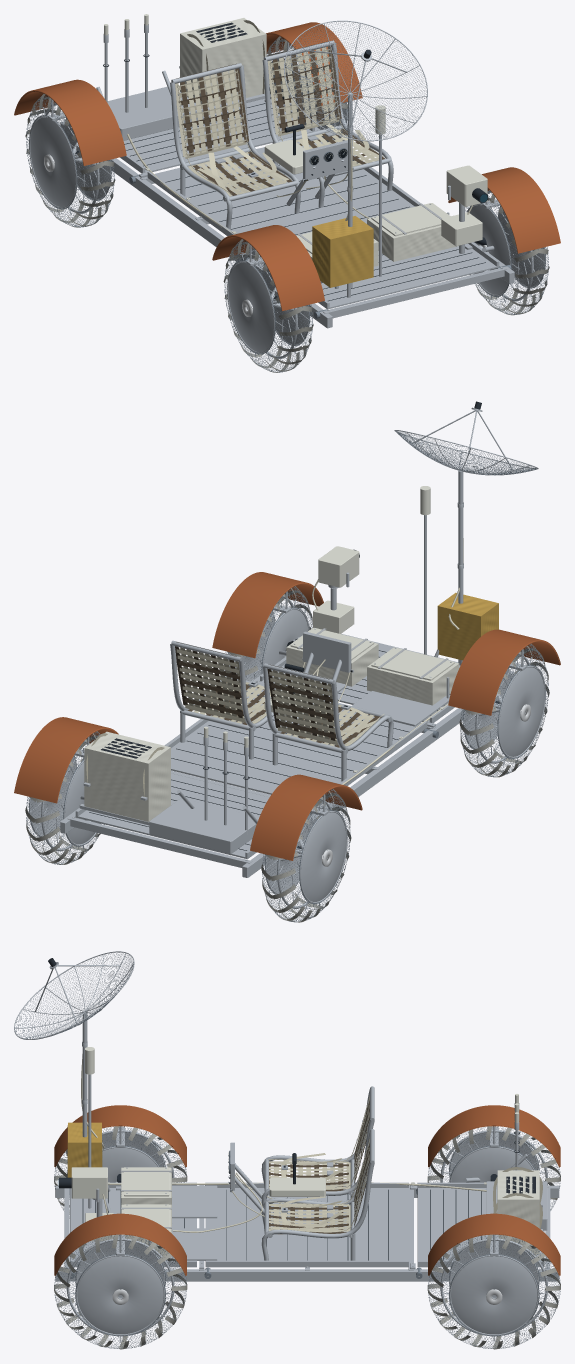
File: lrv-exterior-mobile.glb
3 renders of one model, top to bottom at view 1: azimuth 30°, elevation 25°; view 2: azimuth 150°, elevation 25°; view 3: azimuth 270°, elevation 25°, orthographic. The views are drawn at different scales.
Parts seen in each view (by area): view 1: CHASSIS_Machined_aluminium, FENDER_SHELL_Orange_fibreglass_dust_fender (×4), WOVEN_SEAT_LEFT_Nylon_seat_webbing (×2), SEATS_Machined_aluminium, REAR_EQUIPMENT_White_thermal_coating, HGA_WIRE_REFLECTOR_Steel_fixings, WOVEN_SEAT_RIGHT_Nylon_seat_webbing, LCRU_Multilayer_thermal_foil, BATTERY_COVERS_White_thermal_coating, REAR_EQUIPMENT_Machined_aluminium, WHEEL_-1_-1.15_OUTER_DISK_Machined_aluminium, WHEEL_-1_1.15_OUTER_DISK_Machined_aluminium (+25 smaller); view 2: CHASSIS_Machined_aluminium, FENDER_SHELL_Orange_fibreglass_dust_fender (×4), SEATS_Machined_aluminium, REAR_EQUIPMENT_White_thermal_coating, BATTERY_COVERS_White_thermal_coating, REAR_EQUIPMENT_Machined_aluminium, WOVEN_SEAT_LEFT_Nylon_seat_webbing, WOVEN_SEAT_RIGHT_Nylon_seat_webbing, LCRU_Multilayer_thermal_foil, WHEEL_-1_-1.15_OUTER_DISK_Machined_aluminium, WHEEL_-1_1.15_OUTER_DISK_Machined_aluminium, TV_CAMERA_White_thermal_coating (+19 smaller); view 3: CHASSIS_Machined_aluminium, FENDER_SHELL_Orange_fibreglass_dust_fender (×4), SEATS_Machined_aluminium, WHEEL_1_-1.15_OUTER_DISK_Machined_aluminium, WHEEL_1_1.15_OUTER_DISK_Machined_aluminium, BATTERY_COVERS_White_thermal_coating, HGA_WIRE_REFLECTOR_Steel_fixings, WHEEL_1_1.15_MESH_Steel_fixings, WHEEL_1_-1.15_MESH_Steel_fixings, REAR_EQUIPMENT_White_thermal_coating, WHEEL_1_-1.15_TRACTION_Titanium_traction_bands, WHEEL_1_1.15_TRACTION_Titanium_traction_bands (+29 smaller).
Part boxes in pixels (<box>): CHASSIS_Machined_aluminium: <box>60,97,514,328</box>; FENDER_SHELL_Orange_fibreglass_dust_fender (×4): <box>14,22,560,310</box>; WOVEN_SEAT_LEFT_Nylon_seat_webbing (×2): <box>175,69,288,196</box>; SEATS_Machined_aluminium: <box>170,40,449,235</box>; REAR_EQUIPMENT_White_thermal_coating: <box>104,14,266,104</box>; HGA_WIRE_REFLECTOR_Steel_fixings: <box>285,22,426,140</box>; WOVEN_SEAT_RIGHT_Nylon_seat_webbing: <box>267,47,378,166</box>; LCRU_Multilayer_thermal_foil: <box>312,216,373,287</box>; BATTERY_COVERS_White_thermal_coating: <box>296,203,458,266</box>; REAR_EQUIPMENT_Machined_aluminium: <box>96,33,270,140</box>; WHEEL_-1_-1.15_OUTER_DISK_Machined_aluminium: <box>30,117,75,206</box>; WHEEL_-1_1.15_OUTER_DISK_Machined_aluminium: <box>228,262,273,352</box>; CHASSIS_Machined_aluminium: <box>60,633,514,877</box>; FENDER_SHELL_Orange_fibreglass_dust_fender (×4): <box>14,572,560,860</box>; SEATS_Machined_aluminium: <box>170,639,449,781</box>; REAR_EQUIPMENT_White_thermal_coating: <box>84,726,248,821</box>; BATTERY_COVERS_White_thermal_coating: <box>286,628,459,705</box>; REAR_EQUIPMENT_Machined_aluminium: <box>79,746,259,853</box>; WOVEN_SEAT_LEFT_Nylon_seat_webbing: <box>269,670,378,747</box>; WOVEN_SEAT_RIGHT_Nylon_seat_webbing: <box>176,647,270,725</box>; LCRU_Multilayer_thermal_foil: <box>437,592,498,660</box>; WHEEL_-1_-1.15_OUTER_DISK_Machined_aluminium: <box>301,812,346,901</box>; WHEEL_-1_1.15_OUTER_DISK_Machined_aluminium: <box>499,667,544,756</box>; TV_CAMERA_White_thermal_coating: <box>313,546,359,633</box>; CHASSIS_Machined_aluminium: <box>55,1182,559,1281</box>; FENDER_SHELL_Orange_fibreglass_dust_fender (×4): <box>54,1105,560,1275</box>; SEATS_Machined_aluminium: <box>148,1086,374,1260</box>; WHEEL_1_-1.15_OUTER_DISK_Machined_aluminium: <box>451,1256,537,1334</box>; WHEEL_1_1.15_OUTER_DISK_Machined_aluminium: <box>77,1256,163,1334</box>; BATTERY_COVERS_White_thermal_coating: <box>121,1167,171,1256</box>; HGA_WIRE_REFLECTOR_Steel_fixings: <box>15,952,133,1039</box>; WHEEL_1_1.15_MESH_Steel_fixings: <box>54,1235,186,1348</box>; WHEEL_1_-1.15_MESH_Steel_fixings: <box>428,1235,560,1348</box>; REAR_EQUIPMENT_White_thermal_coating: <box>497,1094,539,1257</box>; WHEEL_1_-1.15_TRACTION_Titanium_traction_bands: <box>427,1234,560,1349</box>; WHEEL_1_1.15_TRACTION_Titanium_traction_bands: <box>54,1234,187,1349</box>.
Size of the model in its own units: 1.88 by 2.1 by 3.37.
